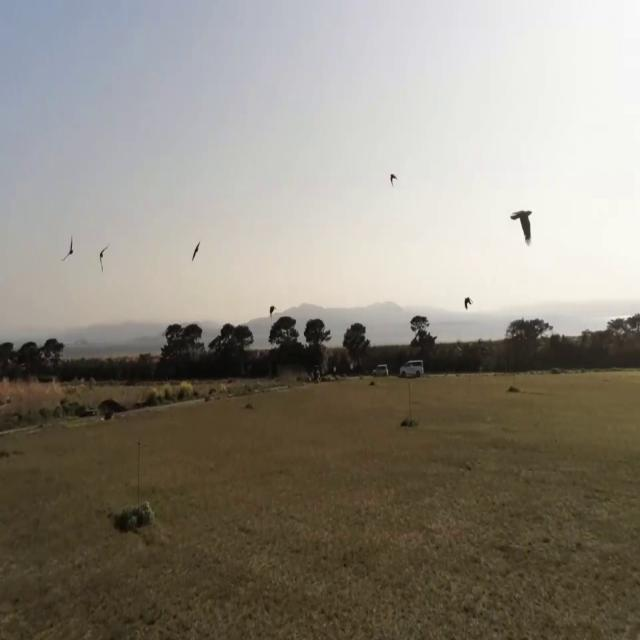bird: (511, 198, 533, 252), (62, 233, 73, 266), (190, 236, 200, 266), (98, 239, 108, 268), (464, 291, 472, 313), (390, 167, 398, 188), (268, 299, 274, 319)
